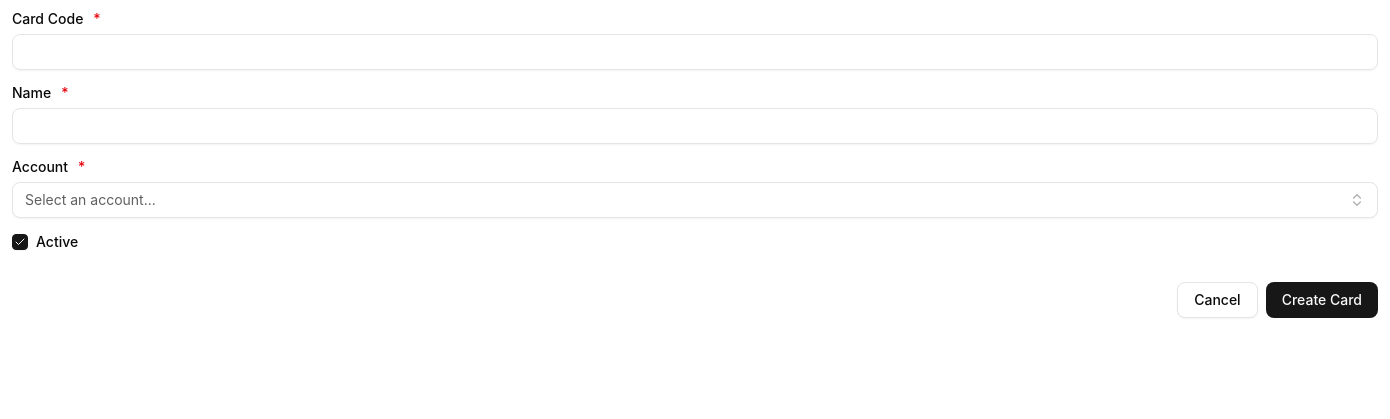
Test: CardForm › shows validation errors when required fields are empty
The image size is (1390, 419).
Click the button "Create Card" at (1322, 300), box [1266, 282, 1378, 318]
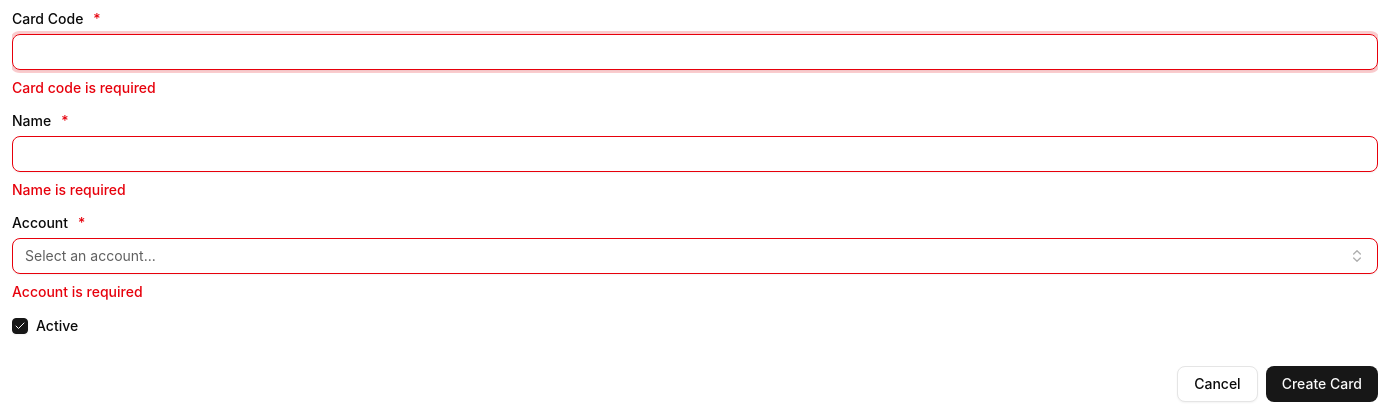
Check: the text "Card code is required" is shown, box [12, 79, 156, 96]
Check: the text "Name is required" is shown, box [12, 181, 126, 198]
Check: the text "Account is required" is shown, box [12, 283, 143, 300]
